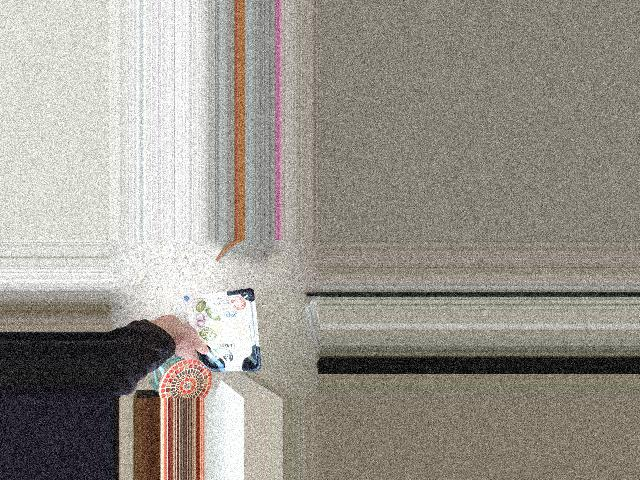cheese: (159, 288, 243, 370)
